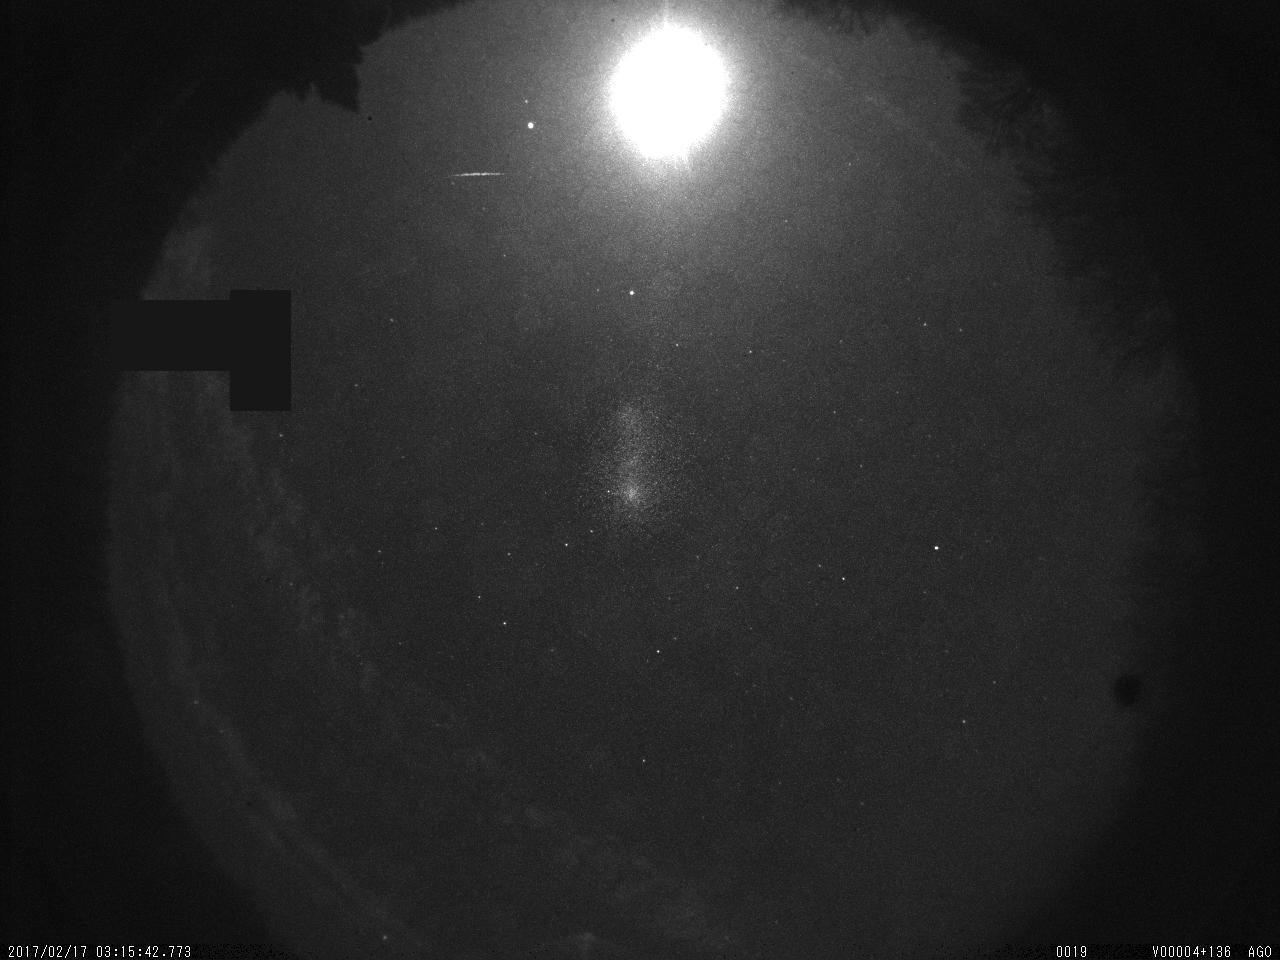Meteor: (449, 166, 512, 185)
